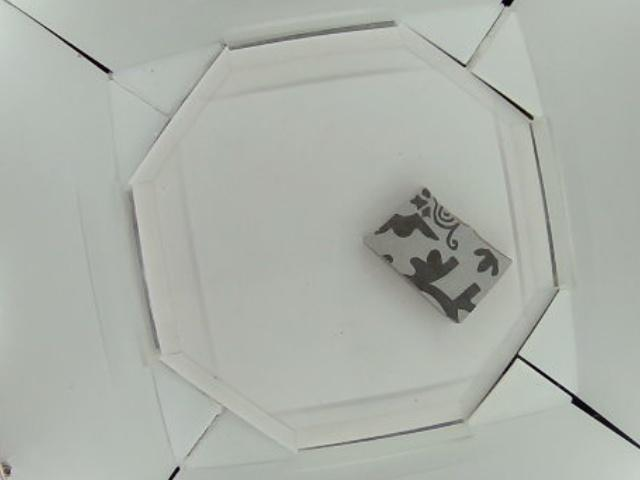China: (363, 185, 516, 319)
